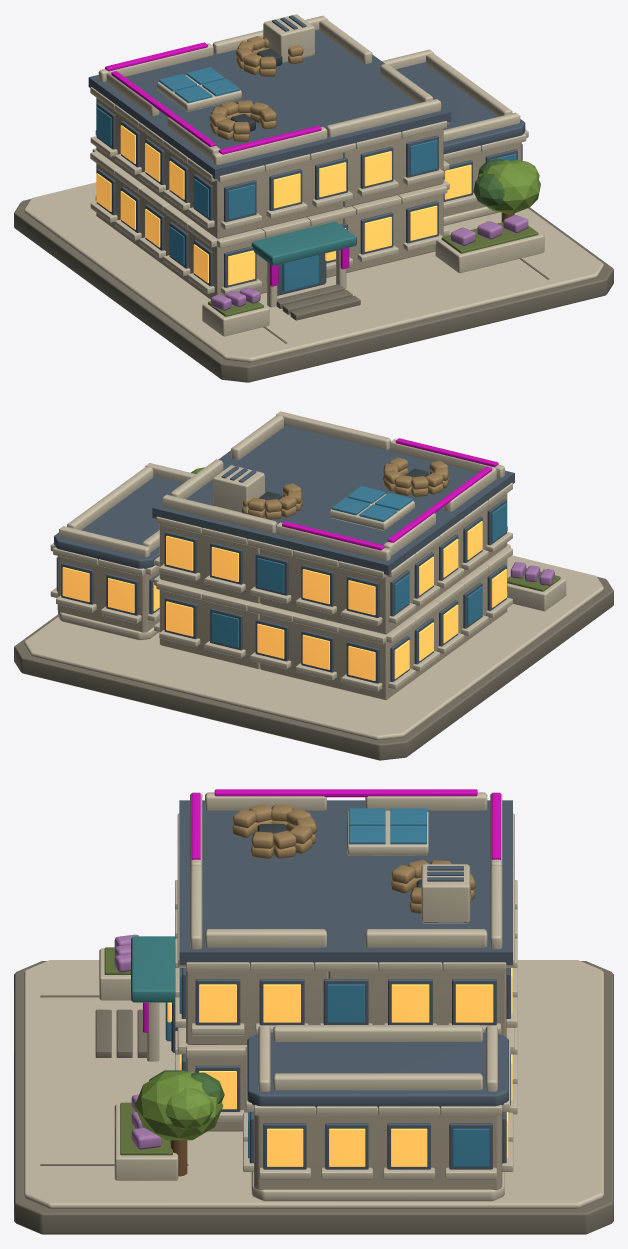
File: civilian-house-garrison.glb
3 renders of one model, top to bottom at view 1: azimuth 30°, elevation 25°; view 2: azimuth 150°, elevation 25°; view 3: azimuth 270°, elevation 25°, orthographic. The views are drawn at different scales.
Parts seen in each view (by area): view 1: CivilianShell; view 2: CivilianShell; view 3: CivilianShell.
Part boxes in pixels (left/top/right/bottom): CivilianShell: left=14, top=14, right=613, bottom=382; CivilianShell: left=14, top=411, right=613, bottom=760; CivilianShell: left=14, top=789, right=613, bottom=1234.
Bounding box in the file's own units: 2.97 × 1.38 × 2.97.
